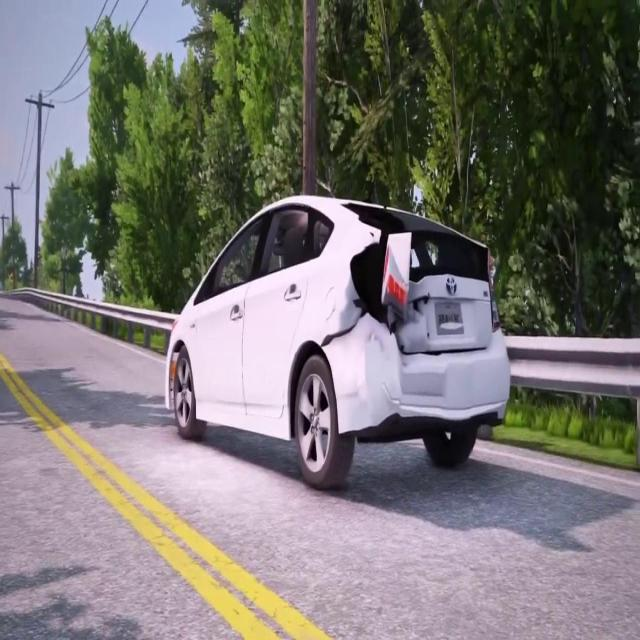moderate: (160, 182, 516, 497)
